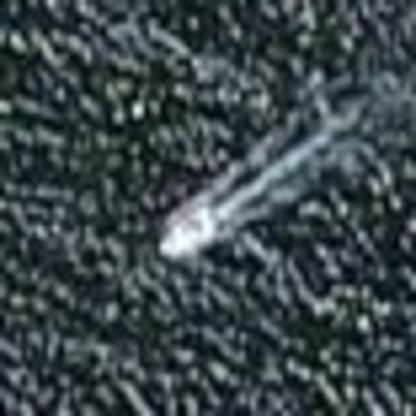ship: (148, 201, 236, 269)
